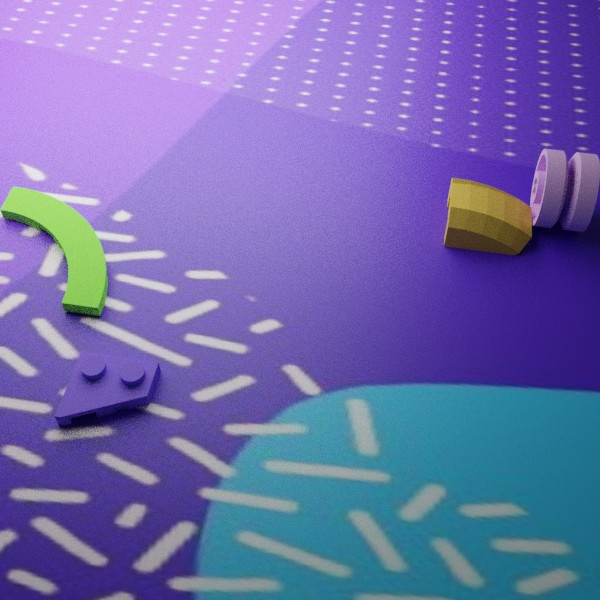lego: (0, 186, 107, 316), (54, 350, 160, 425), (443, 177, 531, 255), (529, 148, 599, 231)
